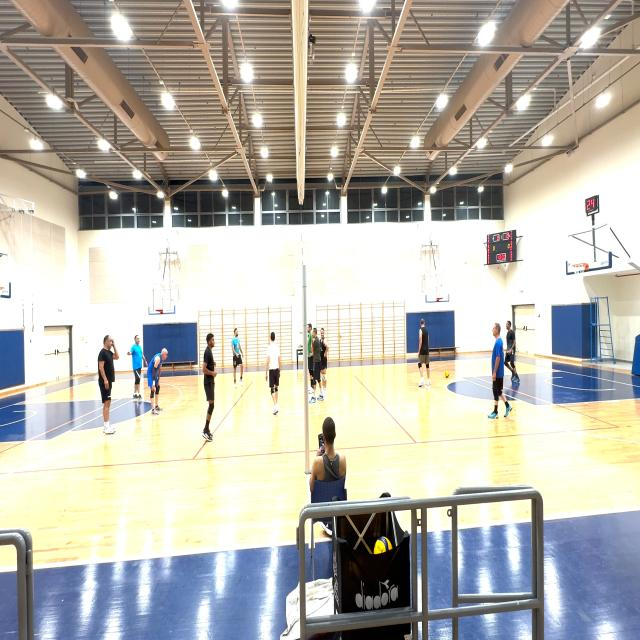volleyball: (445, 370, 449, 378)
